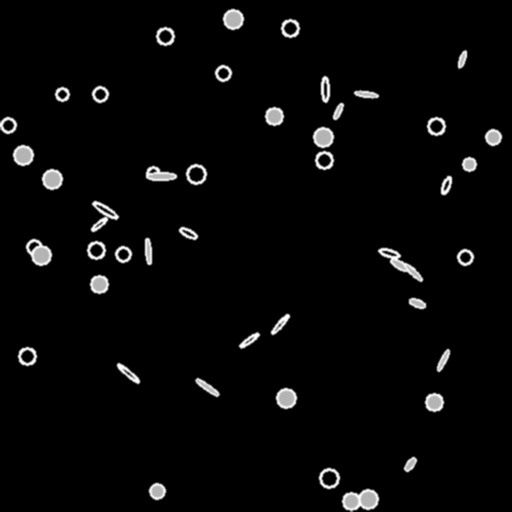pseudomonas: (91, 200, 119, 220), (116, 362, 140, 384), (195, 377, 219, 397), (270, 313, 290, 335), (403, 262, 423, 282), (238, 331, 260, 349), (389, 257, 411, 273), (436, 349, 450, 371), (90, 216, 108, 232), (378, 247, 400, 259), (179, 226, 197, 240), (146, 172, 176, 180), (403, 456, 417, 472), (408, 297, 426, 309), (440, 176, 452, 194), (332, 102, 344, 120), (144, 238, 152, 264), (457, 50, 467, 68), (355, 90, 377, 98), (322, 77, 328, 101)
synechocystis: (359, 490, 377, 508), (277, 389, 295, 407), (14, 146, 32, 164), (314, 128, 332, 146), (32, 246, 50, 264), (320, 469, 338, 487), (43, 170, 61, 188), (224, 10, 242, 28), (187, 165, 205, 183), (316, 152, 332, 168), (426, 394, 442, 410), (266, 108, 282, 124), (157, 28, 173, 44), (19, 348, 35, 364), (282, 20, 298, 36), (343, 493, 359, 509), (88, 242, 104, 258), (428, 118, 444, 134), (91, 276, 107, 292), (27, 240, 41, 254), (116, 247, 130, 261), (486, 130, 500, 144), (458, 250, 472, 264), (150, 484, 164, 498), (1, 118, 15, 132), (216, 66, 230, 80), (93, 87, 107, 101), (56, 88, 68, 100), (463, 158, 475, 170), (147, 167, 159, 179)
